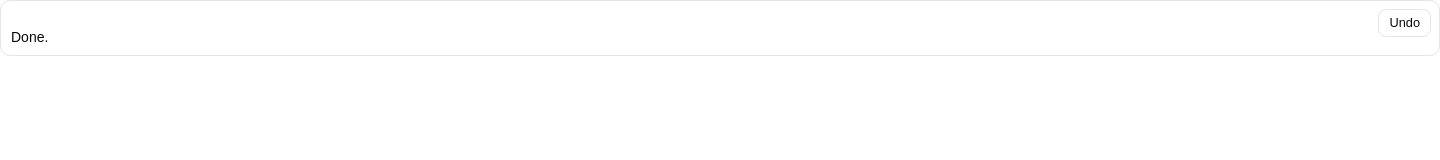
Test case: UndoNotice › runs a single reversal while in flight: disabled, and a second click does nothing
This screenshot has width=1440, height=160.
What coordinates should you click on to do the following:
click the button "Undo"
I would click on:
 (1405, 23)
Its box is [1378,9,1431,37].
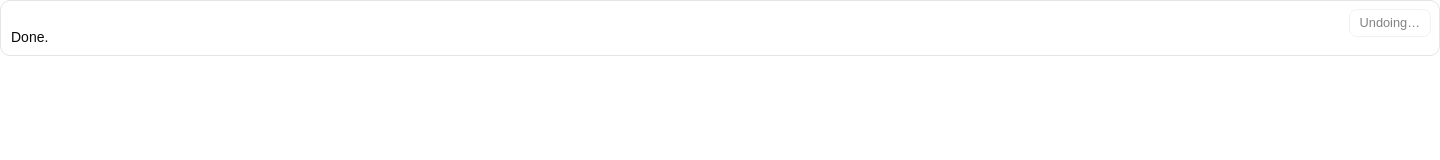
expect the button "Undoing…" is disabled: met
What coordinates should you click on to do the following:
click the button "Undoing…"
I would click on:
 (1390, 23)
Its box is [1348,9,1431,37].
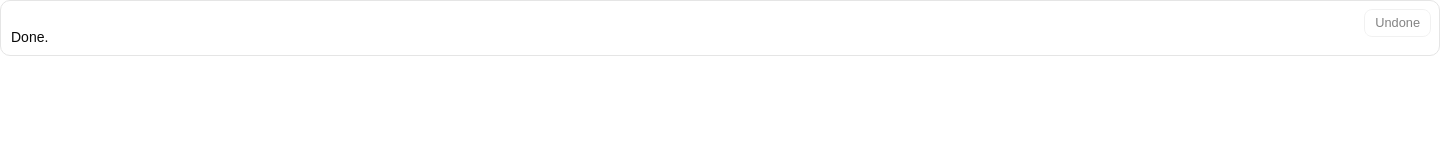
expect the button "Undone" is shown: met, box [1364,9,1431,37]
